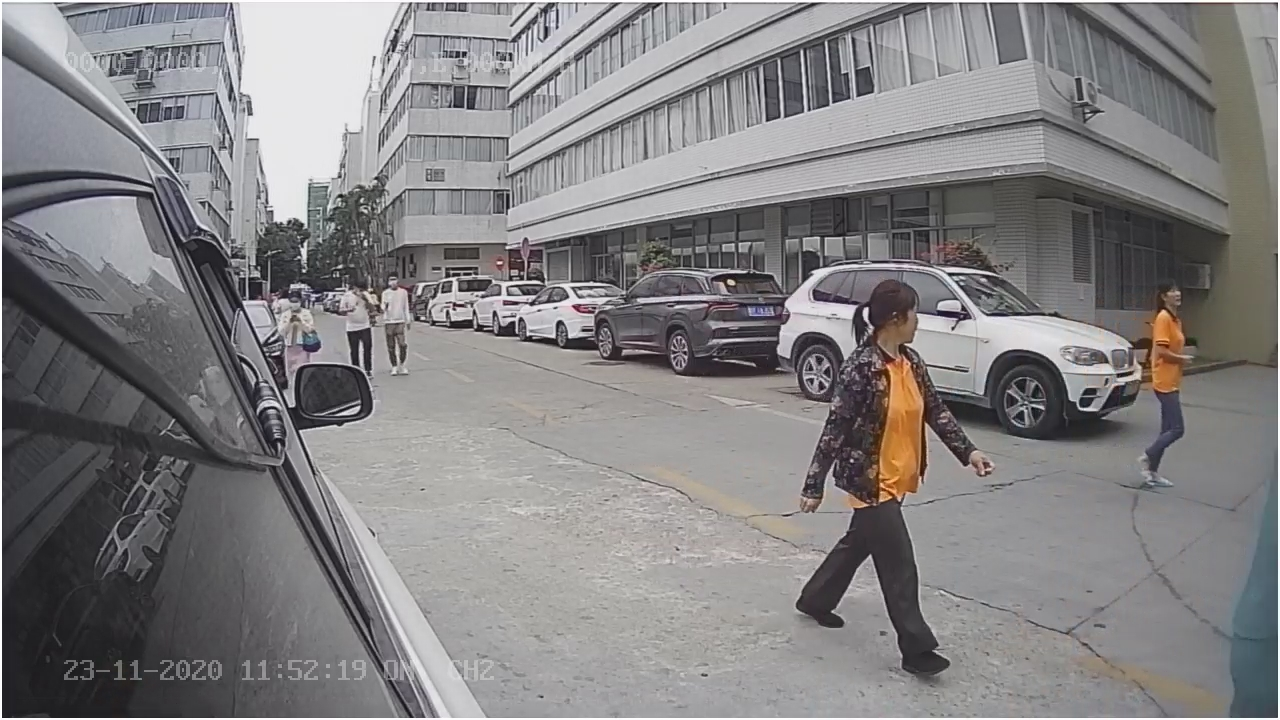person: (807, 277, 977, 677)
